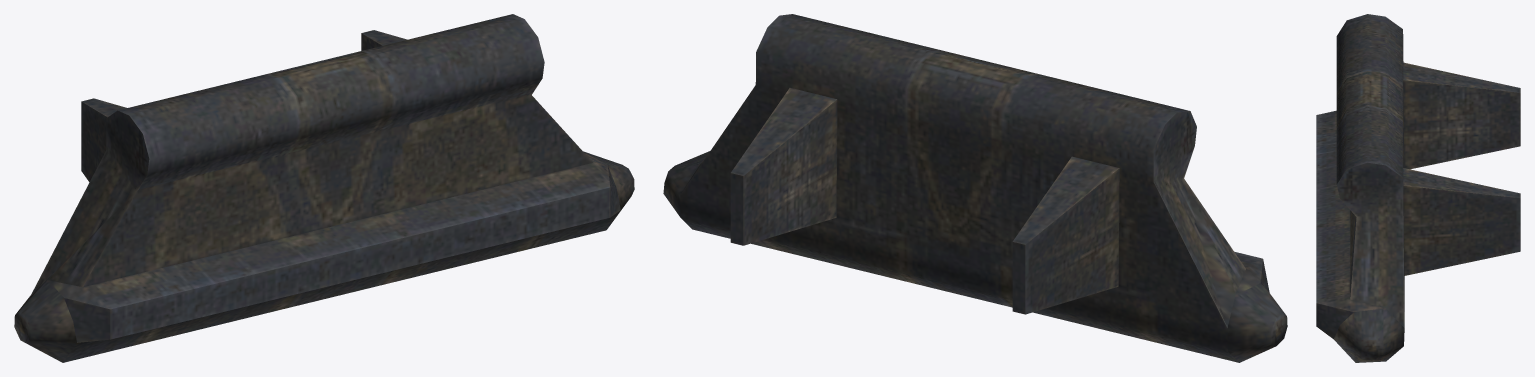
The model's file is TKS_track.glb.
3 renders of one model, left to right at view 1: azimuth 30°, elevation 25°; view 2: azimuth 150°, elevation 25°; view 3: azimuth 270°, elevation 25°, orthographic. The views are drawn at different scales.
Parts seen in each view (by area): view 1: set_0_group_0; view 2: set_0_group_0; view 3: set_0_group_0.
Part boxes in pixels (<box>): set_0_group_0: <box>14,14,634,362</box>; set_0_group_0: <box>663,14,1287,362</box>; set_0_group_0: <box>1316,14,1520,362</box>.
Bounding box in the file's own units: 0.1801 × 0.0638 × 0.0686.
Materials: 1 (1 with a texture image).
